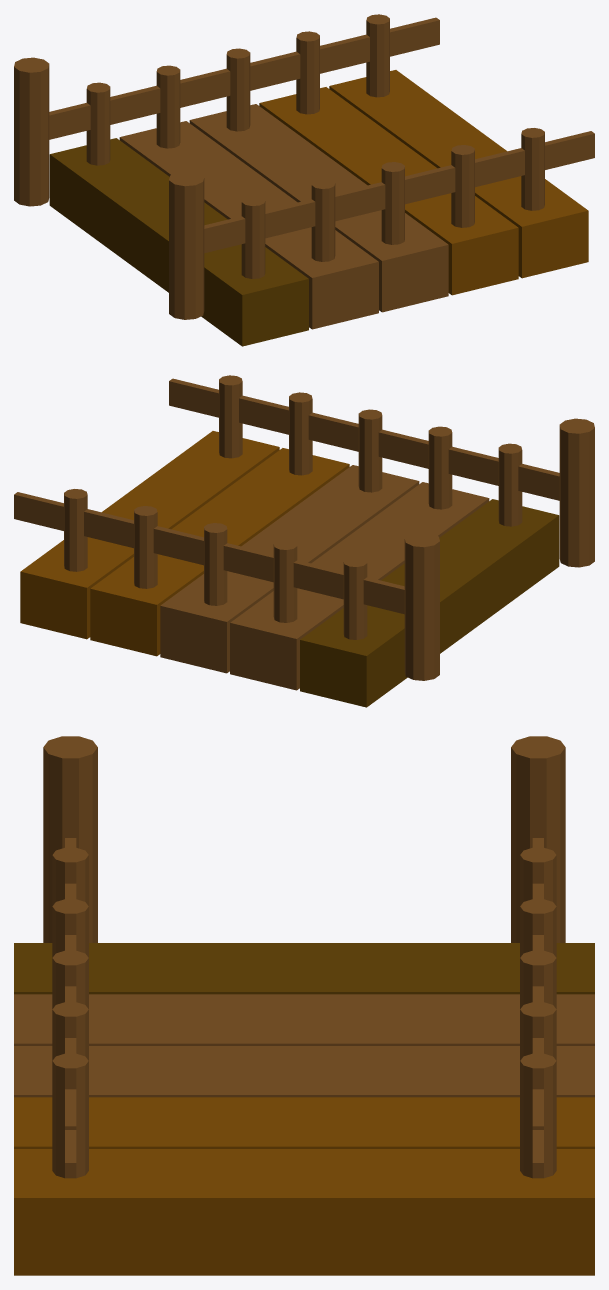
Rendered from BridgeEnd.fbx.
The picture shows the model from 3 angles, top to bottom: view 1: azimuth 30°, elevation 25°; view 2: azimuth 150°, elevation 25°; view 3: azimuth 270°, elevation 25°; orthographic projection. The views are drawn at different scales.
Visible parts, largest first — view 1: BridgeEndWide.003; view 2: BridgeEndWide.003; view 3: BridgeEndWide.003.
Boxes of the visible parts, x1,y1,x2,y2 form: BridgeEndWide.003: [14, 14, 594, 346]; BridgeEndWide.003: [14, 375, 594, 707]; BridgeEndWide.003: [14, 736, 594, 1275].
Bounding box in the file's own units: 1206 × 446 × 954.
